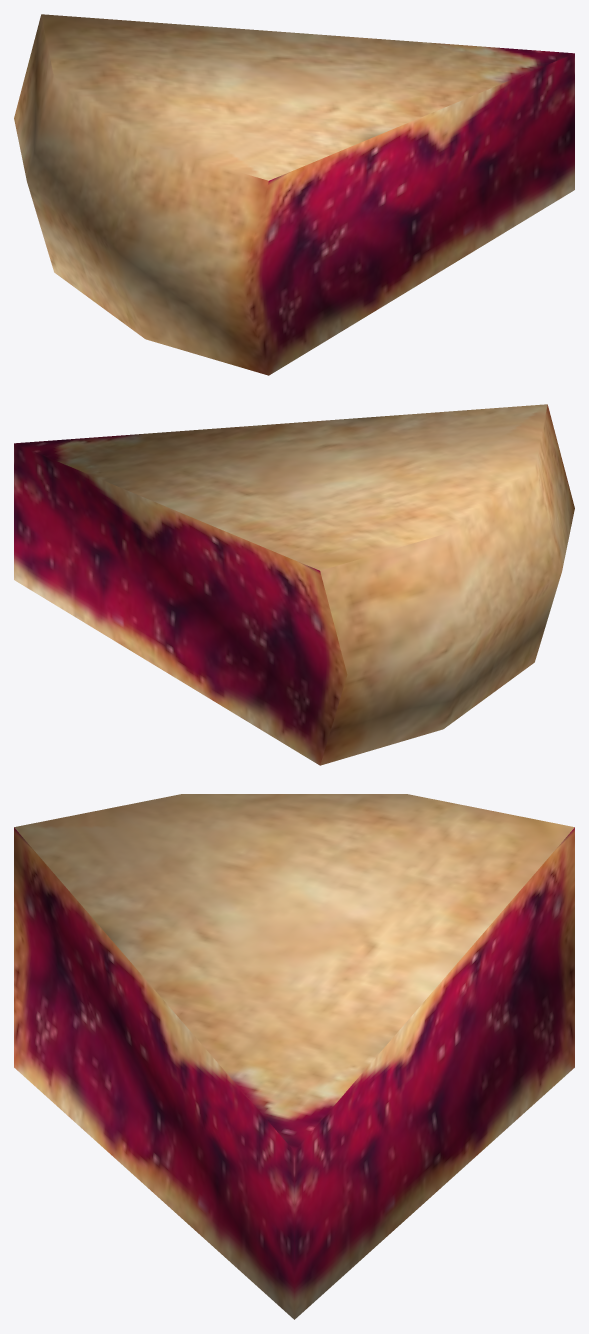
Rendered from Cake_02-col.glb.
3 views of the same model, one above another, from view 1: azimuth 30°, elevation 25°; view 2: azimuth 150°, elevation 25°; view 3: azimuth 270°, elevation 25° (orthographic). The views are drawn at different scales.
Parts seen in each view (by area): view 1: Cake_02-col; view 2: Cake_02-col; view 3: Cake_02-col.
Boxes of the visible parts, box(x1,y1,x2,y2) form: Cake_02-col: box(14, 14, 574, 375); Cake_02-col: box(14, 404, 574, 765); Cake_02-col: box(14, 794, 574, 1319).
Size of the model in its own units: 0.3555 by 0.1318 by 0.2789.
1 material, 1 textured.
